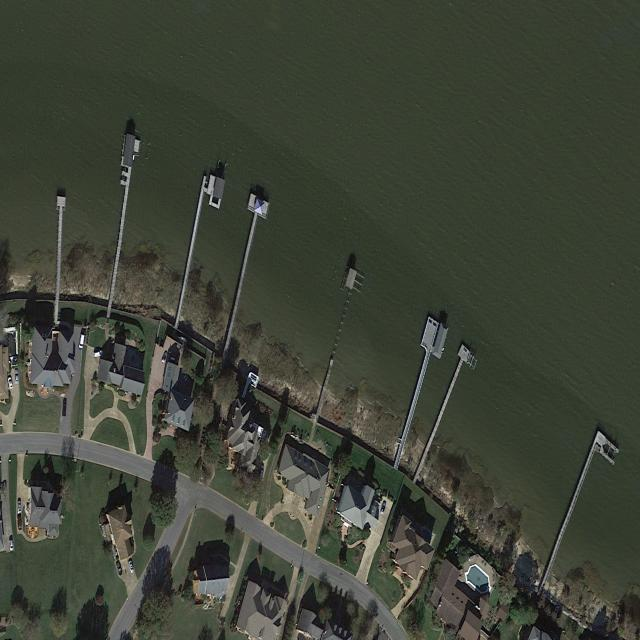small-vehicle: (379, 500, 387, 516), (116, 559, 123, 577), (127, 559, 135, 574), (78, 334, 85, 350), (61, 398, 67, 416), (93, 349, 103, 359), (7, 376, 14, 390), (161, 350, 168, 364), (259, 463, 265, 479), (17, 515, 22, 532), (14, 368, 19, 384), (8, 539, 14, 552), (17, 500, 21, 514)
